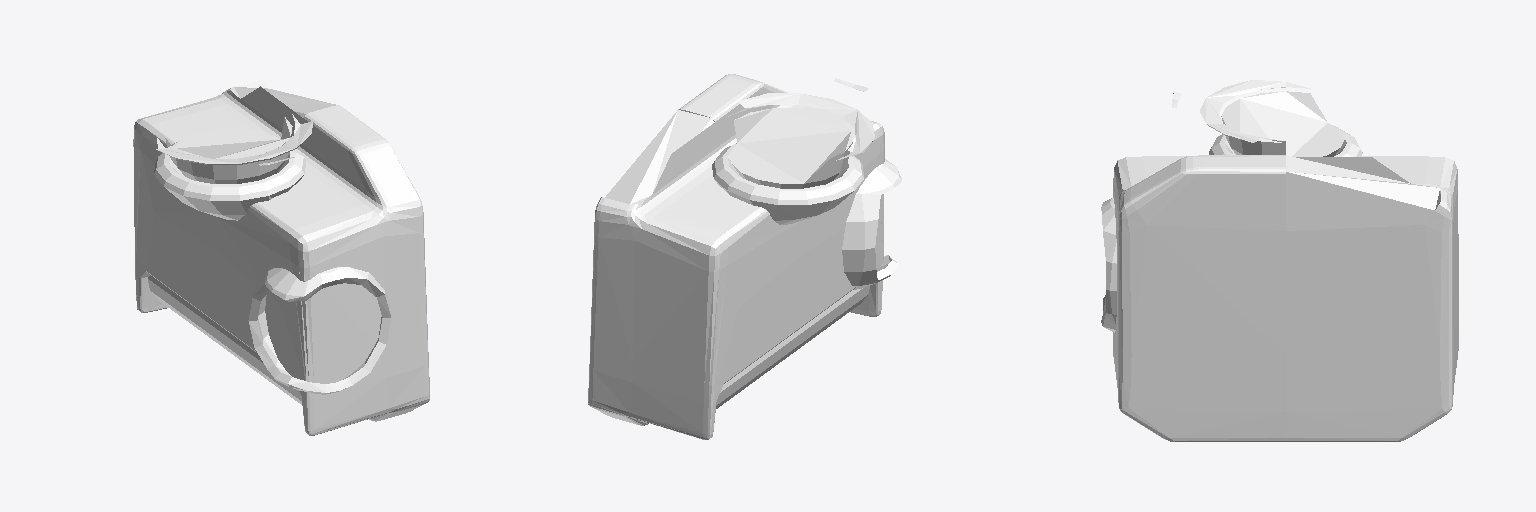
The model's file is Mano_Derecha.obj.
The picture shows the model from 3 angles: view 1: azimuth 30°, elevation 25°; view 2: azimuth 150°, elevation 25°; view 3: azimuth 270°, elevation 25°; orthographic projection.
Parts seen in each view (by area): view 1: rig_test.002; view 2: rig_test.002; view 3: rig_test.002.
Boxes of the visible parts, x1=… form: rig_test.002: x1=133, y1=80, x2=429, y2=435; rig_test.002: x1=588, y1=74, x2=901, y2=439; rig_test.002: x1=1101, y1=79, x2=1458, y2=441.
Size of the model in its own units: 17.91 by 24.75 by 28.28.